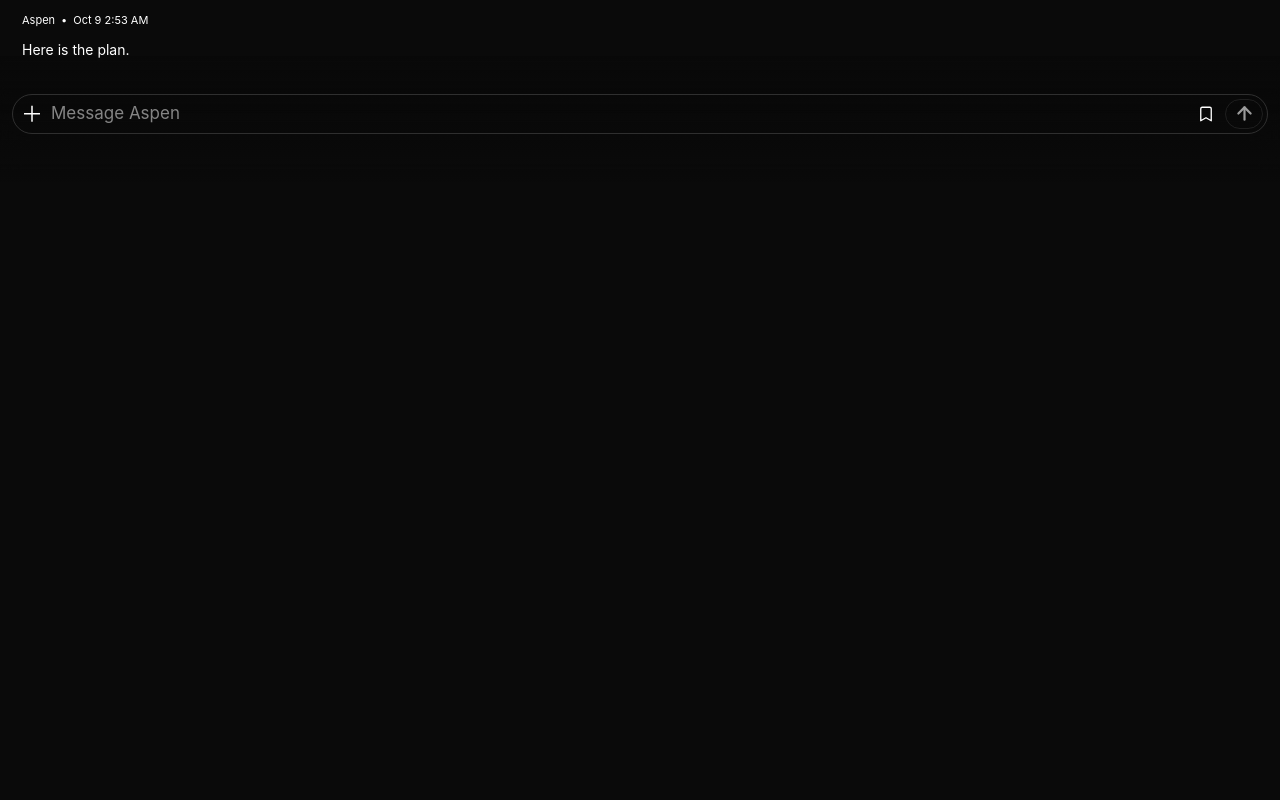
Test case: the stash button and sheet › choosing fills the field with its files and focuses it; the stash keeps it
This screenshot has width=1280, height=800.
Click the button with test id "stash-button".
click(1206, 114)  # box [1191,98,1221,128]
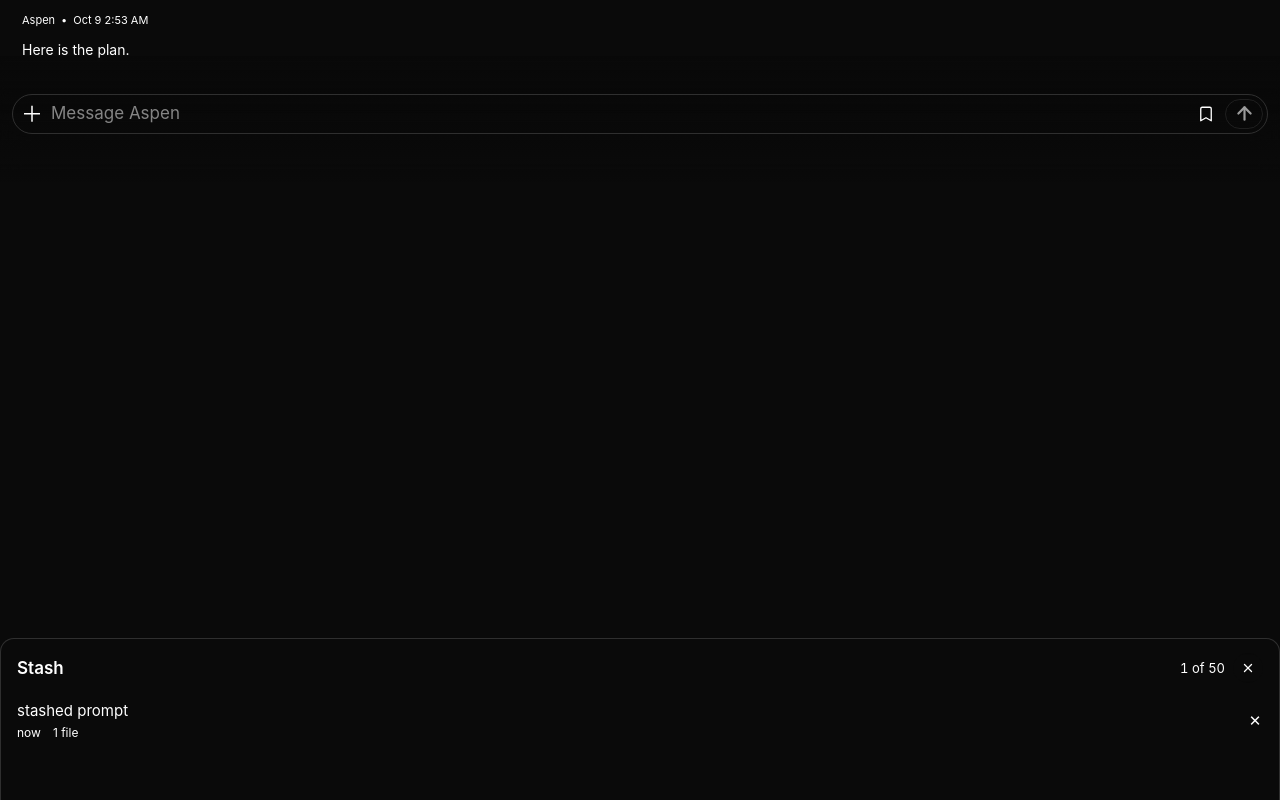
Click the button with test id "stash-item".
click(73, 711)  # box [1,691,1231,752]
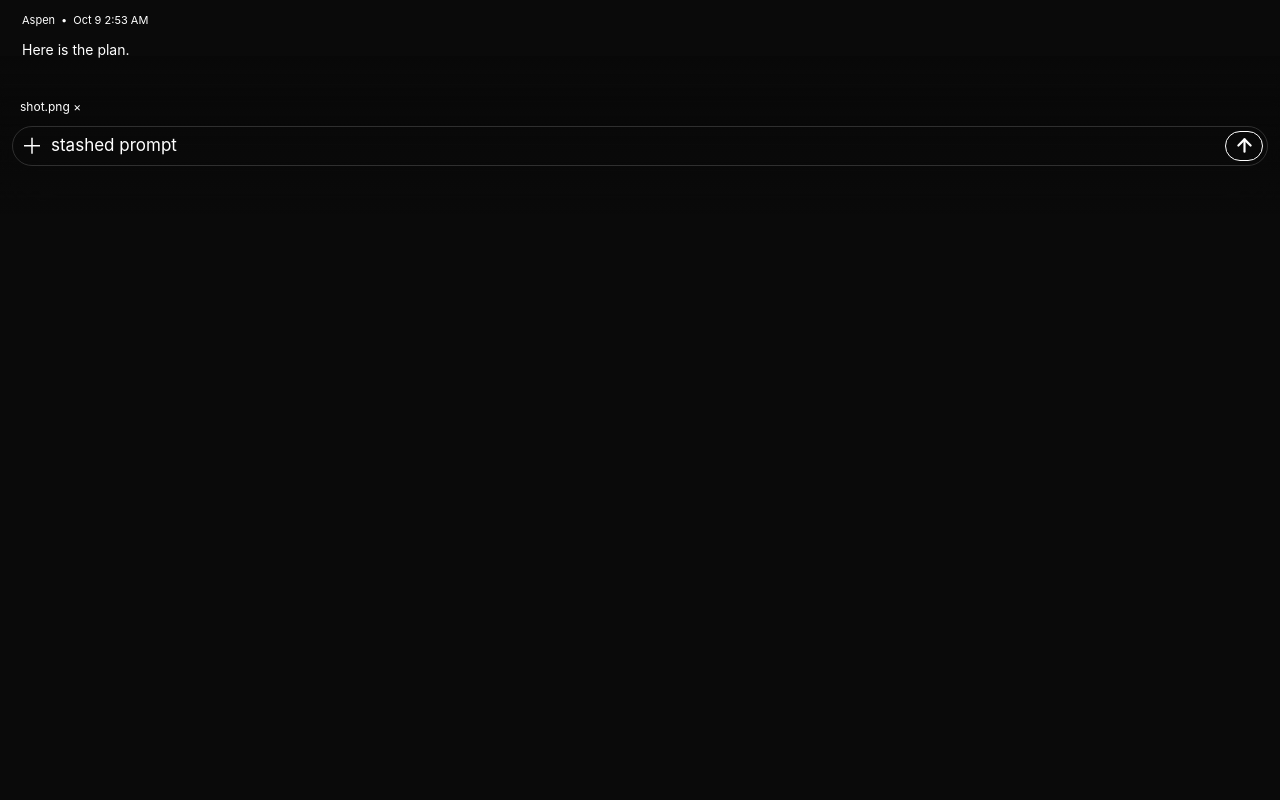
Result: the text box with test id "composer-input" holds "stashed prompt" at [51,130,1221,160]
Result: the element with test id "stash-sheet" is gone
Result: the button with test id "attach-chip" shows "shot.png" at [12,94,89,120]
